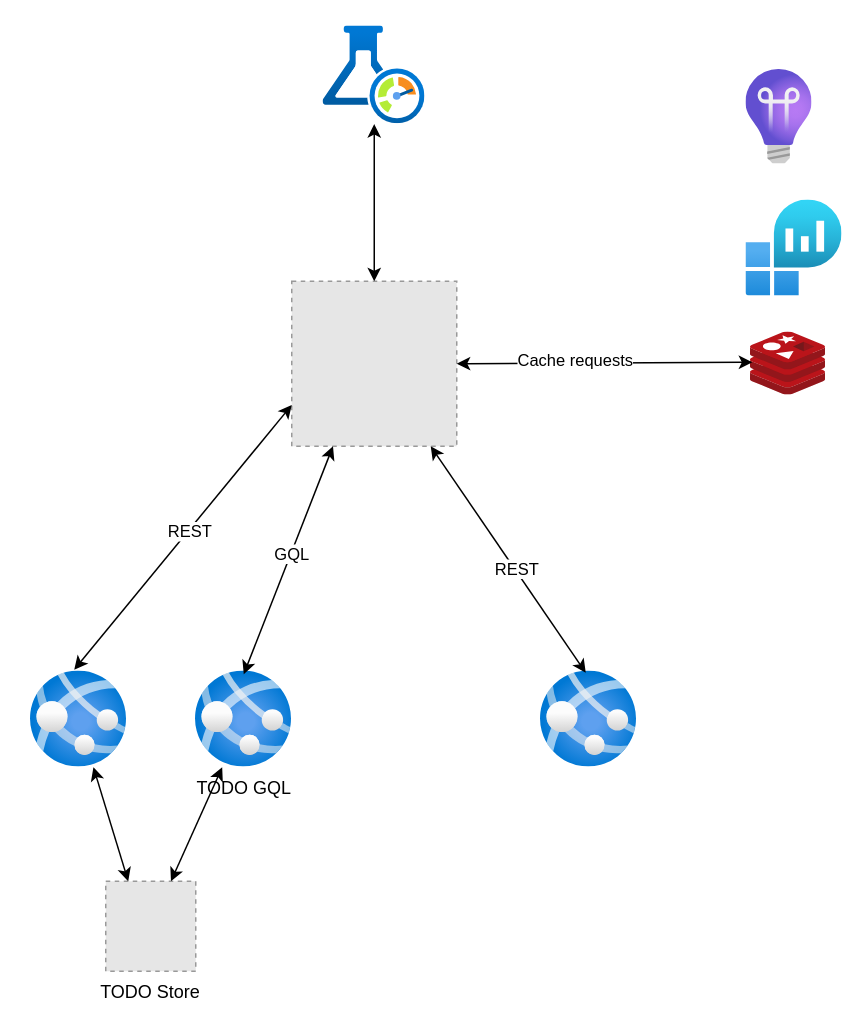
This 867x1028 diagram has some shape labels left out. Grey dashed boxes stand in for pictures. The centre of each missing label's shape, as x and y in pixels:
"Star Wars REST" belongs at [588,718].
"TODO REST" belongs at [78,718].
